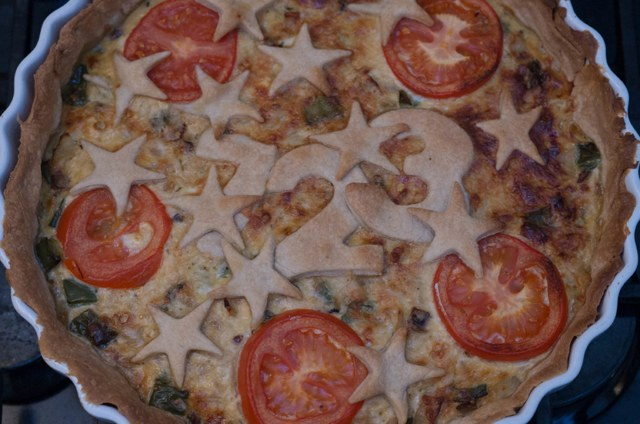tomato: (433, 232, 569, 359), (239, 306, 367, 422), (56, 183, 170, 288), (380, 0, 502, 98), (124, 0, 240, 101)
